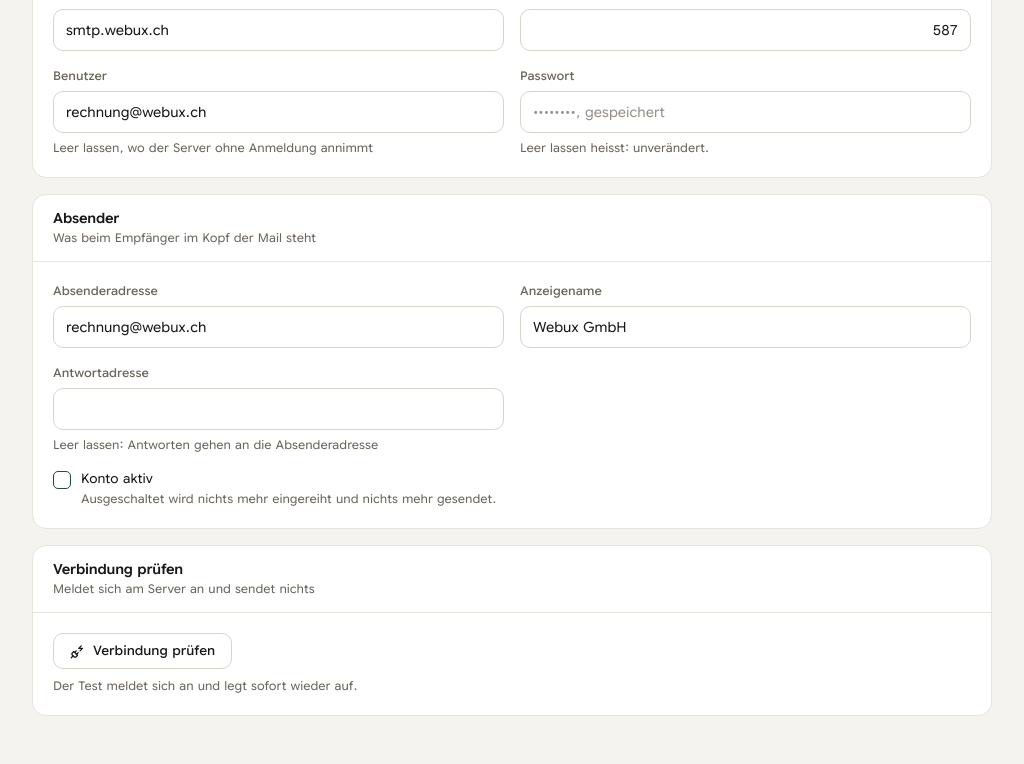
Scenario: OutboxAccountPage › outboxAccountPageShowsAFailedConnectionTestTest
(page scrolled)
Step 1. Click the button "Verbindung prüfen" → (143, 651), box [53, 633, 232, 669]
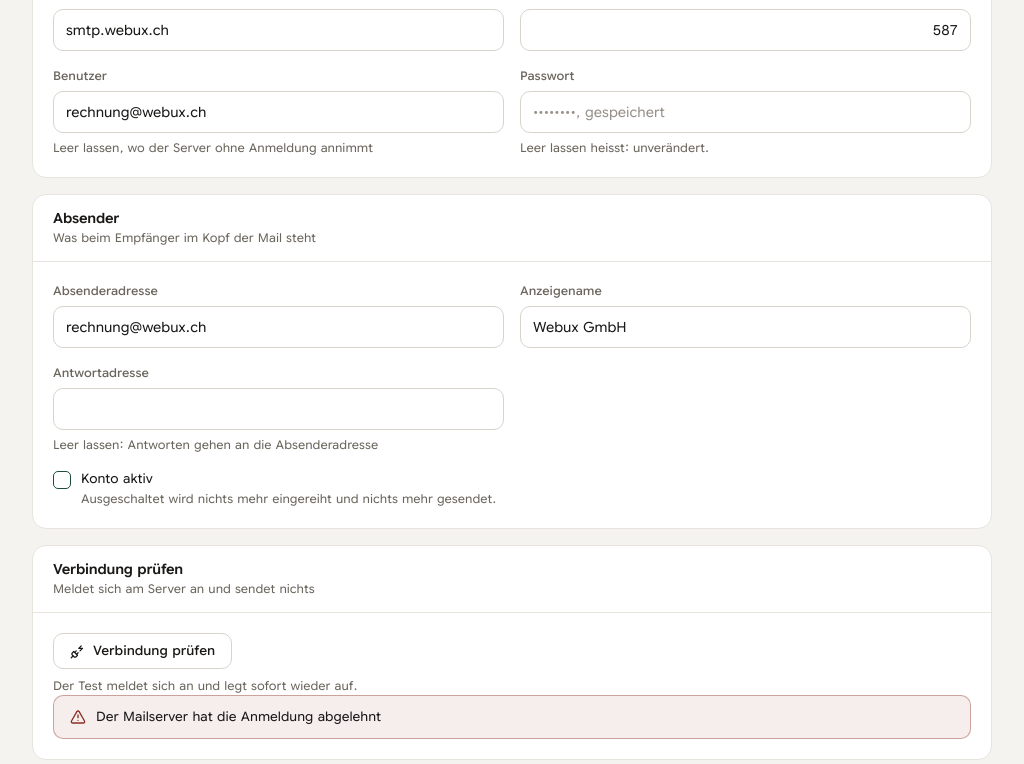
Result: the text "Der Mailserver hat die Anmeldung abgelehnt" is shown at [96, 708, 381, 725]
